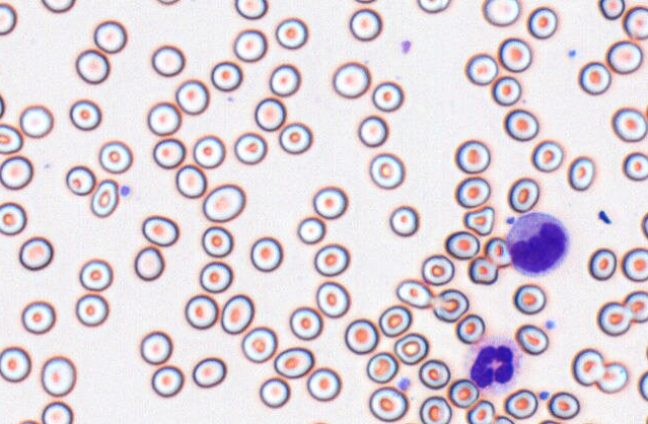GRAN: (461, 333, 521, 396)
MONO: (505, 211, 571, 278)
PLT: (119, 185, 133, 199), (398, 377, 412, 390), (544, 320, 558, 331), (539, 389, 551, 401)
RBC: (202, 183, 245, 222), (40, 355, 76, 397), (368, 386, 408, 422), (332, 61, 370, 98), (220, 293, 254, 334), (240, 326, 277, 363), (368, 152, 405, 189), (273, 346, 314, 378), (596, 301, 633, 336), (315, 281, 350, 318), (75, 48, 110, 84), (611, 107, 647, 142), (432, 288, 469, 322), (606, 40, 643, 74), (571, 348, 604, 386), (344, 318, 378, 354), (20, 300, 56, 334), (249, 236, 283, 272), (454, 139, 490, 173), (175, 79, 209, 115), (141, 214, 179, 246), (18, 236, 53, 270), (306, 367, 341, 401), (184, 294, 218, 329), (312, 185, 347, 219), (147, 101, 181, 136), (313, 243, 349, 276), (288, 306, 322, 340), (93, 19, 127, 53), (19, 104, 53, 138), (233, 28, 267, 62), (393, 332, 428, 365), (0, 155, 33, 190), (504, 108, 539, 141), (498, 37, 531, 72), (78, 258, 113, 291), (507, 177, 539, 213), (0, 345, 31, 382), (90, 178, 119, 217), (139, 330, 172, 364), (278, 121, 312, 154), (378, 304, 412, 337), (578, 61, 611, 95), (75, 293, 109, 326), (192, 134, 225, 168), (98, 140, 132, 173), (455, 176, 490, 208), (191, 356, 226, 388), (395, 278, 432, 308), (199, 260, 232, 293), (349, 8, 382, 41), (464, 53, 498, 85), (150, 365, 184, 397), (151, 44, 185, 76), (254, 97, 286, 131), (233, 132, 267, 164), (503, 388, 538, 419), (175, 163, 206, 198), (133, 246, 164, 281), (444, 230, 480, 260), (515, 323, 548, 355), (365, 351, 398, 383), (152, 137, 185, 169), (275, 17, 308, 49), (596, 361, 628, 393), (258, 376, 290, 408), (531, 140, 563, 172), (201, 225, 233, 257), (371, 80, 403, 112), (421, 254, 454, 285), (513, 283, 546, 314), (357, 114, 388, 147), (269, 63, 300, 96), (567, 155, 595, 191), (418, 358, 450, 389), (210, 60, 242, 91), (69, 99, 101, 130), (527, 6, 557, 39), (482, 0, 520, 26), (388, 205, 419, 236), (588, 247, 617, 280), (448, 378, 479, 408), (455, 313, 485, 344), (491, 75, 521, 106), (419, 395, 452, 423), (547, 391, 580, 419), (621, 247, 647, 282), (65, 165, 95, 195), (467, 256, 498, 285), (0, 201, 26, 235), (622, 5, 647, 40), (296, 216, 326, 244), (484, 236, 511, 267), (623, 290, 647, 323), (622, 151, 647, 181), (41, 401, 73, 424), (0, 123, 23, 154), (466, 399, 495, 423), (234, 0, 268, 19), (0, 2, 17, 35), (598, 0, 625, 20), (40, 0, 75, 13), (416, 0, 450, 13), (638, 370, 647, 401), (641, 211, 648, 239), (493, 415, 514, 423), (18, 418, 40, 424), (155, 0, 181, 5), (0, 93, 5, 118), (537, 419, 561, 424), (644, 98, 648, 125), (353, 0, 377, 4)
